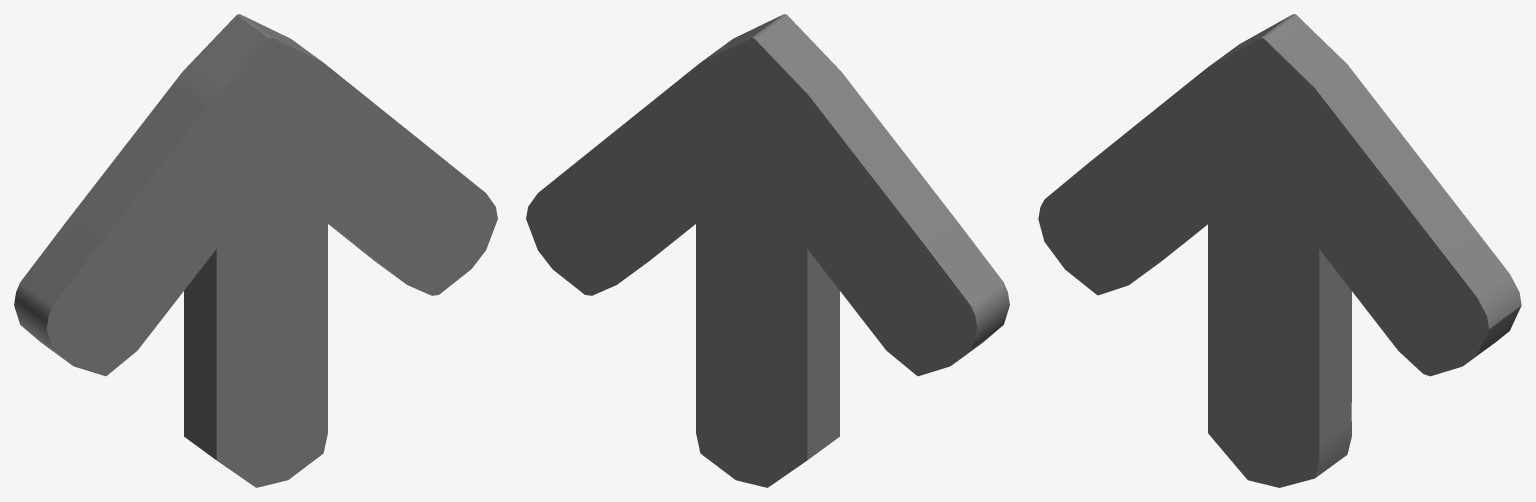
The model's file is fa-arrow-up.obj.
3 views of the same model, side by side, from view 1: azimuth 30°, elevation 25°; view 2: azimuth 150°, elevation 25°; view 3: azimuth 330°, elevation 25° (orthographic).
Bounding box in the file's own units: 0.92 × 0.8693 × 0.1152.
Materials: 1 (1 with a texture image).
